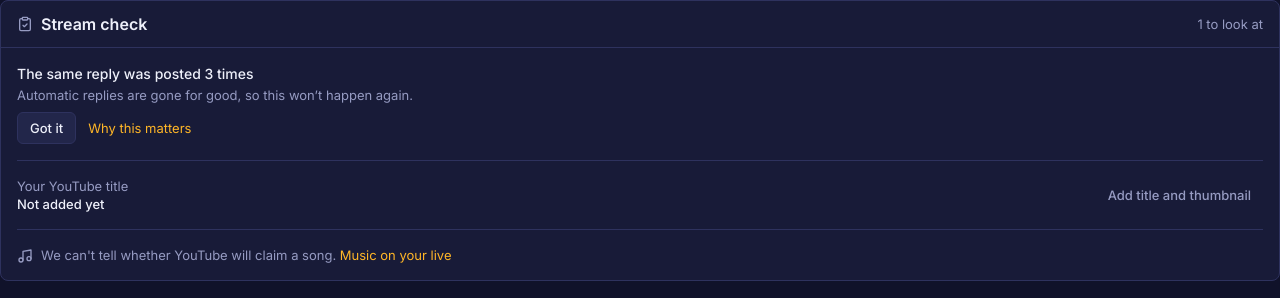
Test case: Stream check card (GR-9) › replies posted before automatic replies were removed only explain, with nothing to switch off (AI-3)
Step 1. Click the button "Got it" → (47, 128), box [17,112,76,144]
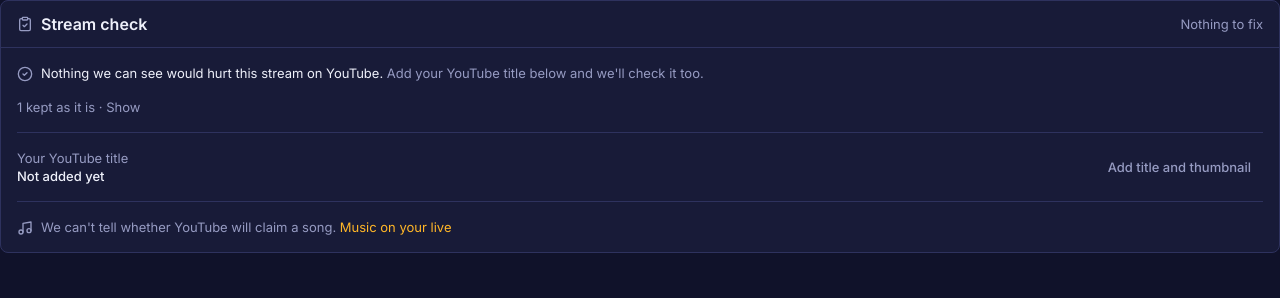
Expected: the text "Nothing to fix" is shown, [1180,15,1263,33]
